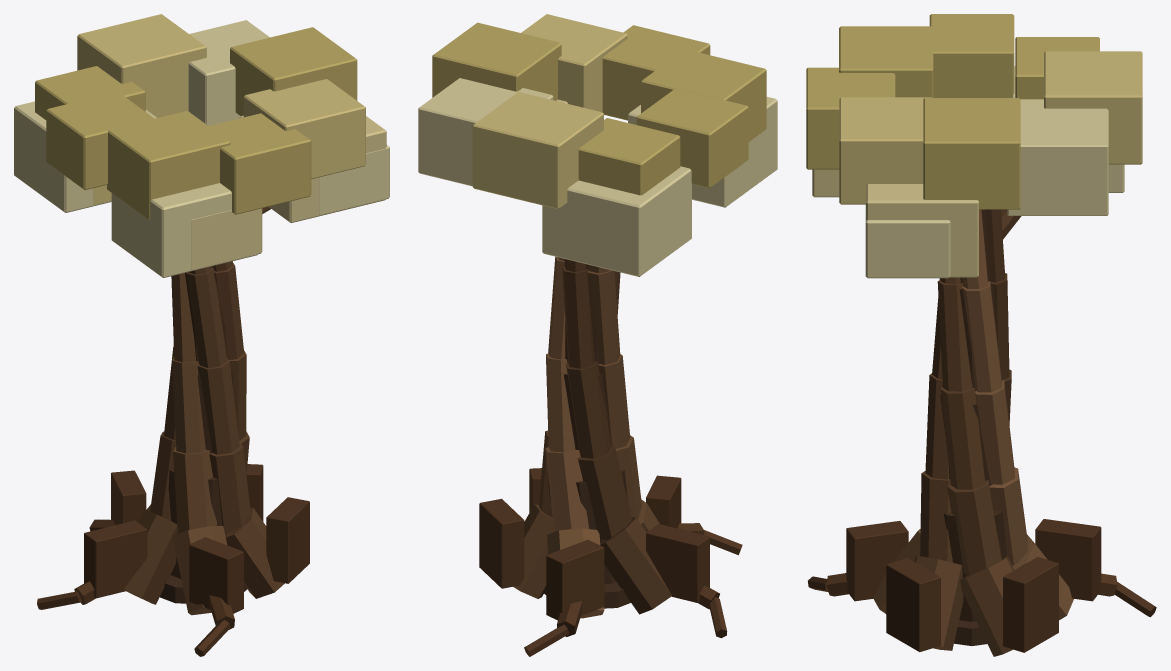
File: Skyroot.glb
3 views of the same model, side by side, from view 1: azimuth 30°, elevation 25°; view 2: azimuth 150°, elevation 25°; view 3: azimuth 270°, elevation 25° (orthographic). The views are drawn at different scales.
Visible parts, largest first — view 1: Leaves, Trunk, Roots; view 2: Leaves, Trunk, Roots; view 3: Leaves, Trunk, Roots.
Part boxes in pixels (bbox=[...]): Leaves: bbox=[14, 14, 389, 277]; Trunk: bbox=[124, 261, 284, 615]; Roots: bbox=[37, 464, 309, 656]; Leaves: bbox=[418, 14, 777, 276]; Trunk: bbox=[513, 256, 671, 618]; Roots: bbox=[479, 468, 742, 656]; Leaves: bbox=[806, 14, 1142, 278]; Trunk: bbox=[873, 209, 1073, 656]; Roots: bbox=[808, 519, 1156, 652].
Size of what is drawn, in the model's own units: 76 by 129 by 72.85.
